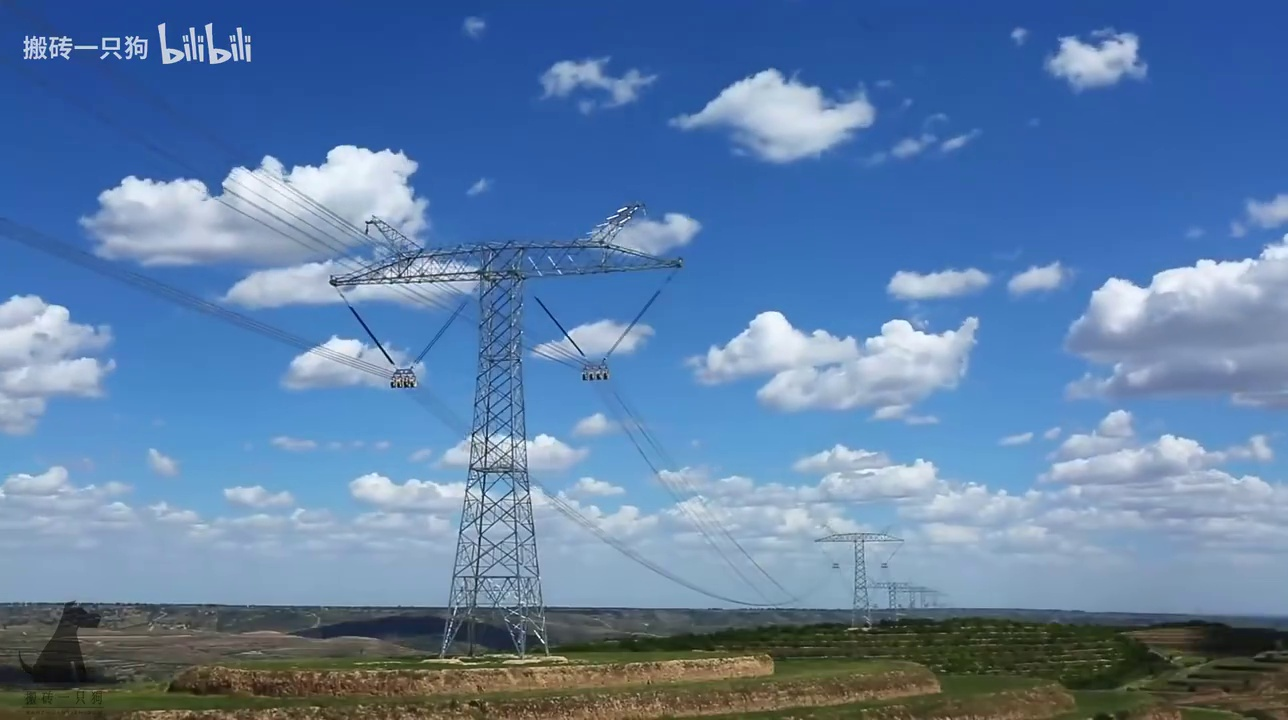tower_body: (314, 183, 709, 673)
tower_foot: (431, 539, 559, 660)
tower_head: (327, 198, 694, 295)
